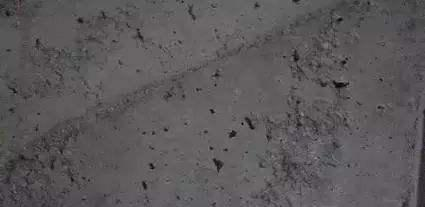Spalling: (1, 1, 363, 207)
